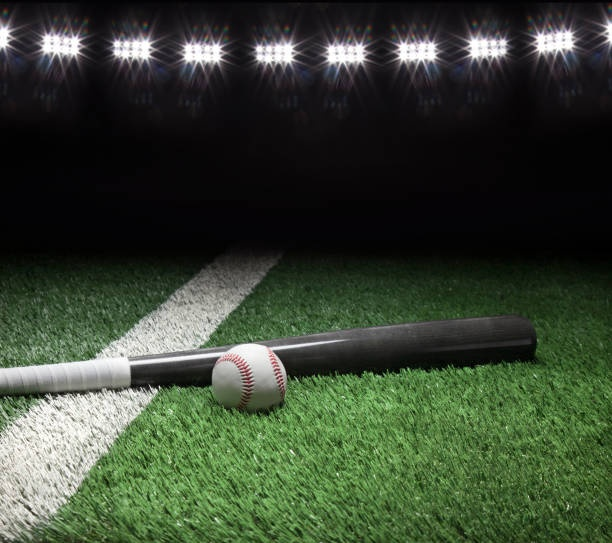bita: (1, 313, 536, 400)
